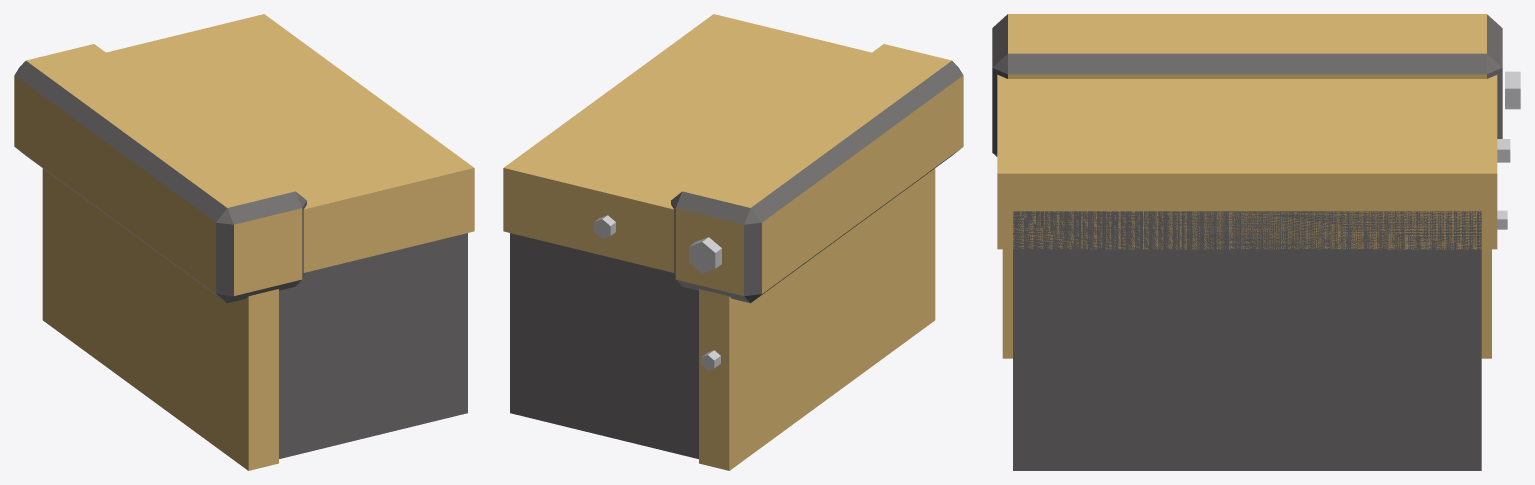
The model's file is CO_Tile_1.fbx.
The picture shows the model from 3 angles, left to right: view 1: azimuth 30°, elevation 25°; view 2: azimuth 150°, elevation 25°; view 3: azimuth 270°, elevation 25°; orthographic projection. The views are drawn at different scales.
Visible parts, largest first — view 1: CO_Tile_1; view 2: CO_Tile_1; view 3: CO_Tile_1.
Part boxes in pixels (x1=…): CO_Tile_1: x1=14, y1=14, x2=474, y2=470; CO_Tile_1: x1=503, y1=14, x2=963, y2=470; CO_Tile_1: x1=992, y1=14, x2=1520, y2=470.
Size of the model in its own units: 0.67 by 0.67 by 1.02.
